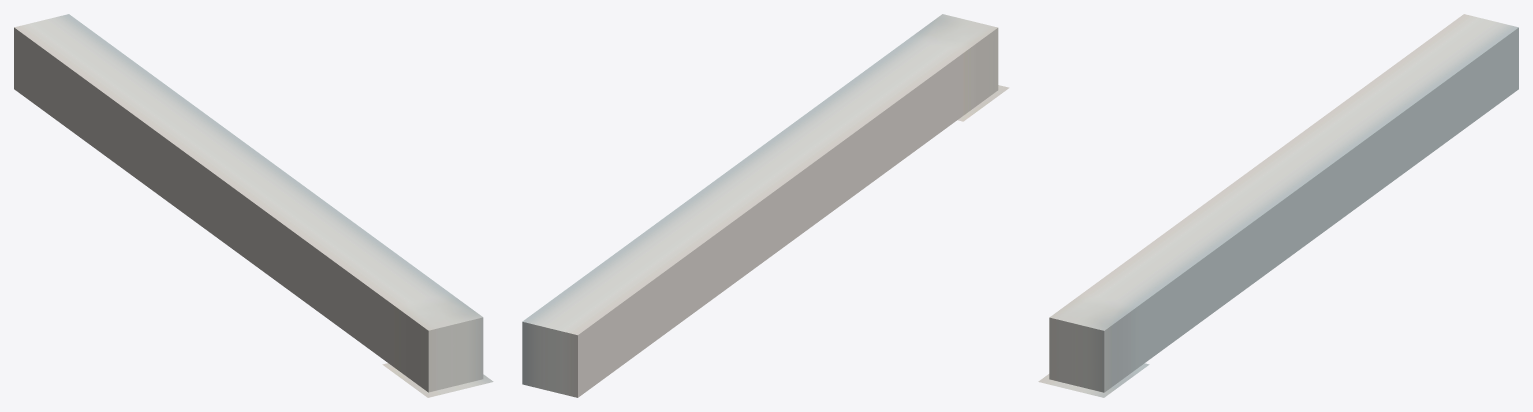
The model's file is tetepanno2.fbx.
The picture shows the model from 3 angles, left to right: view 1: azimuth 30°, elevation 25°; view 2: azimuth 150°, elevation 25°; view 3: azimuth 330°, elevation 25°; orthographic projection.
Visible parts, largest first — view 1: Cube.016; view 2: Cube.016; view 3: Cube.016.
Part boxes in pixels (x1=…): Cube.016: x1=14, y1=14, x2=493, y2=397; Cube.016: x1=522, y1=14, x2=1009, y2=397; Cube.016: x1=1038, y1=14, x2=1518, y2=397.
Bounding box in the file's own units: 500 × 448 × 5509.
1 material, 1 textured.
